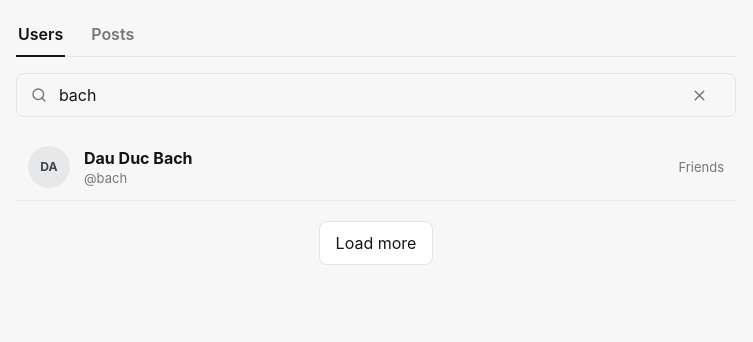
Test: appends paginated results, deduplicates and retries failed pages
Click the button "Load more". click: click(376, 243)
box: [319,221,433,265]
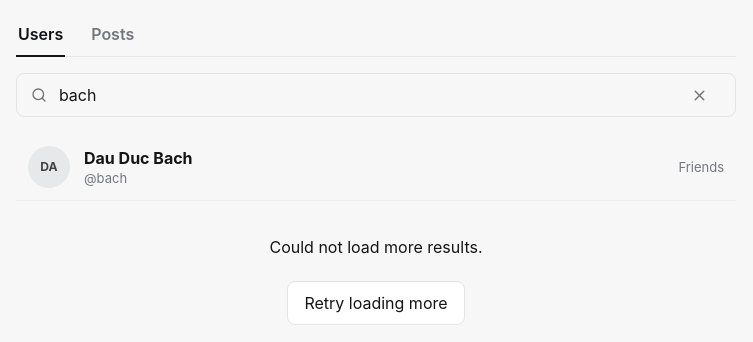
Check: the button with aria-label "Open Dau Duc Bach profile" is shown, box [16,133,736,201]
Click the button "Retry loading more". click: click(376, 303)
box: [287,281,464,325]
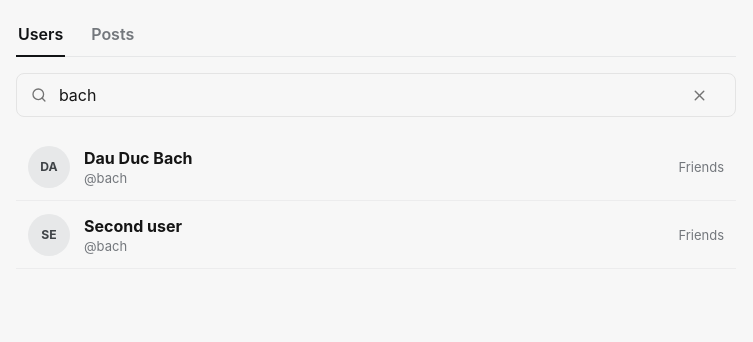
Check: the button with aria-label "Open Second user profile" is shown, box [16,201,736,269]
Check: the number of buttons named "Open Dau Duc Bach profile" is 1, box [16,133,736,201]
